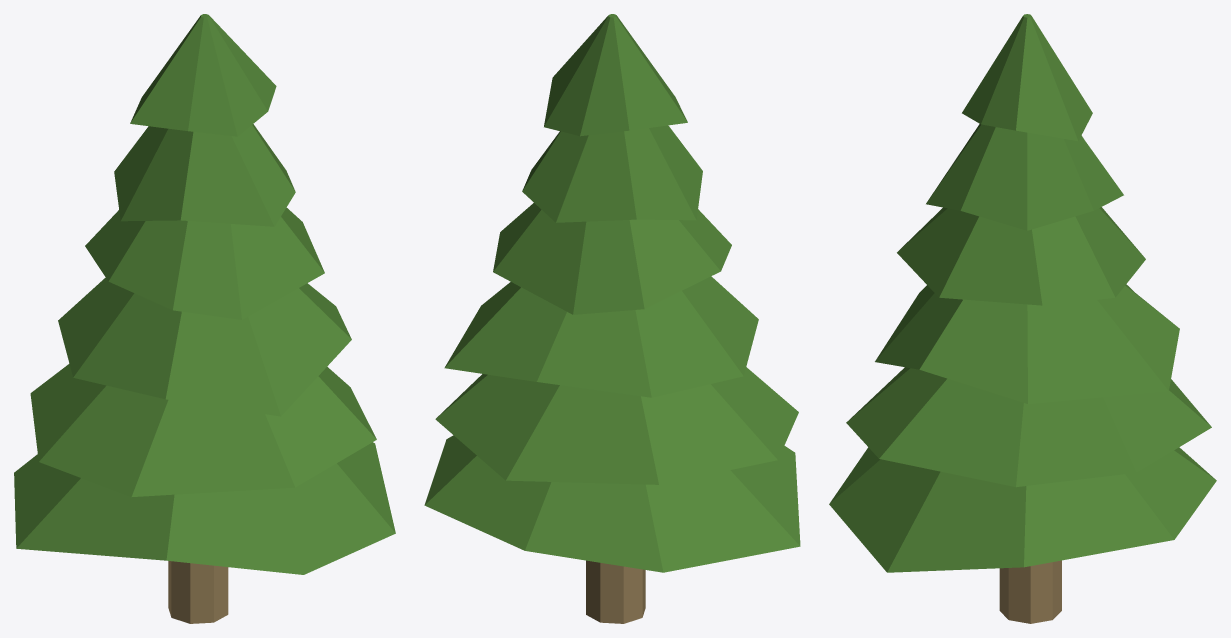
File: Tree01_Placable.fbx
The picture shows the model from 3 angles, left to right: view 1: azimuth 30°, elevation 25°; view 2: azimuth 150°, elevation 25°; view 3: azimuth 270°, elevation 25°; orthographic projection.
Parts seen in each view (by area): view 1: Tree01_LOD0; view 2: Tree01_LOD0; view 3: Tree01_LOD0.
Boxes of the visible parts, box(x1,y1,x2,y2) form: Tree01_LOD0: box(14, 14, 395, 623); Tree01_LOD0: box(424, 14, 800, 623); Tree01_LOD0: box(829, 14, 1216, 623).
Size of what is drawn, in the model's own units: 546 by 870 by 512.
